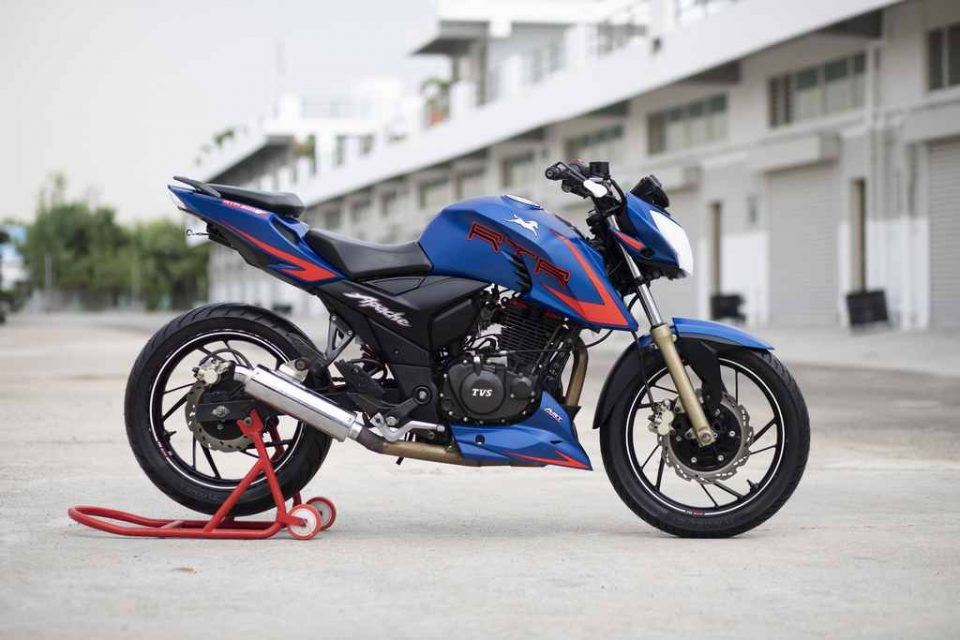bike: (125, 151, 821, 548)
